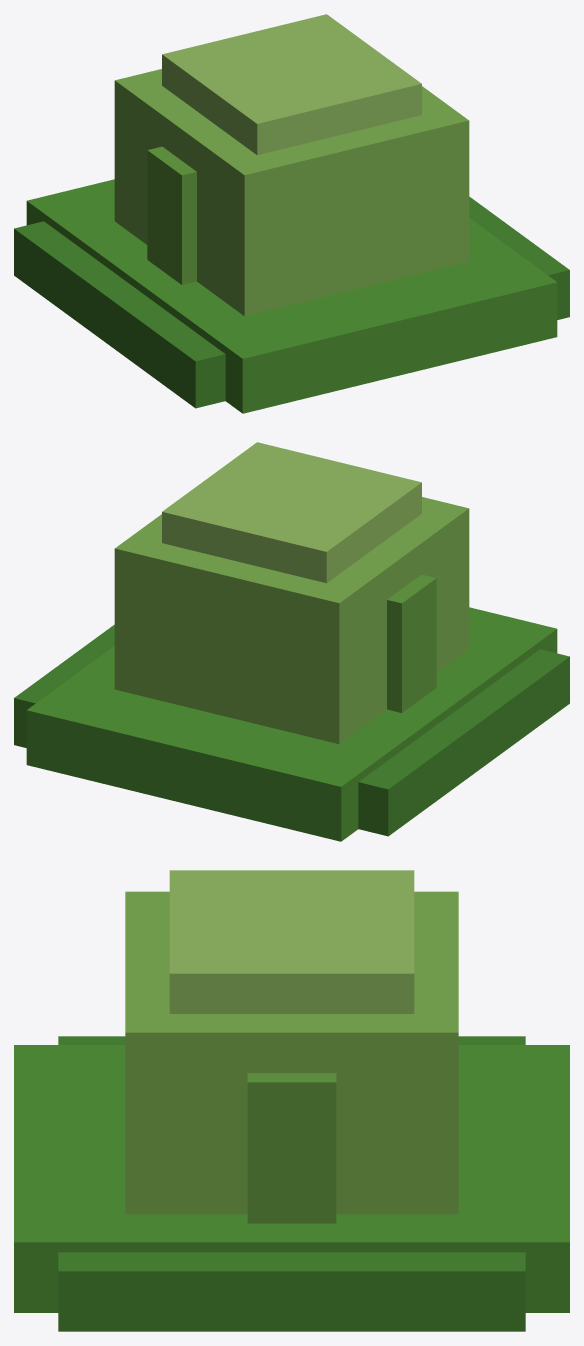
Rendered from xma-cabbage.glb.
3 renders of one model, top to bottom at view 1: azimuth 30°, elevation 25°; view 2: azimuth 150°, elevation 25°; view 3: azimuth 270°, elevation 25°, orthographic. The views are drawn at different scales.
Visible parts, largest first — view 1: box-prop; view 2: box-prop; view 3: box-prop.
Boxes of the visible parts, left/top/right/bottom form: box-prop: left=14, top=14, right=569, bottom=413; box-prop: left=14, top=442, right=569, bottom=841; box-prop: left=14, top=870, right=569, bottom=1331.
Bounding box in the file's own units: 1 × 0.58 × 1.
